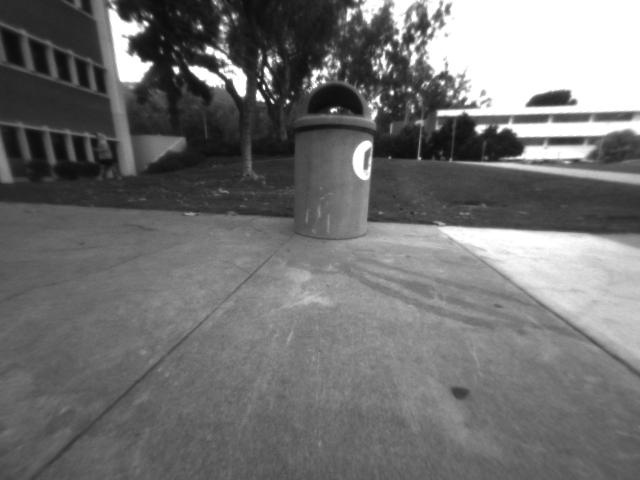trashcan: (286, 76, 376, 245)
